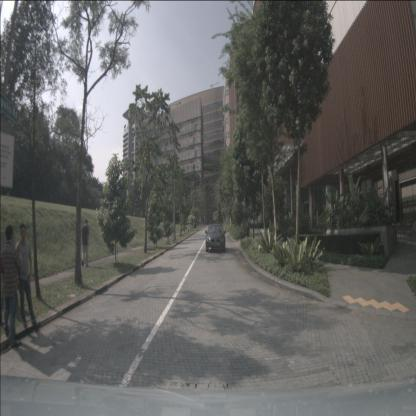human-pedestrian-adult: (3, 224, 22, 349), (15, 222, 37, 329), (82, 218, 89, 267)
vehicle-car: (206, 224, 226, 252)
